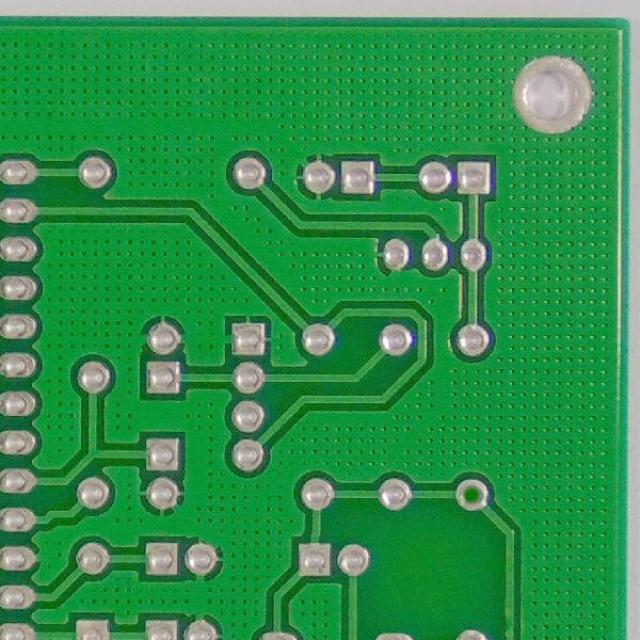Missing_Hole: (450, 476, 492, 512)
